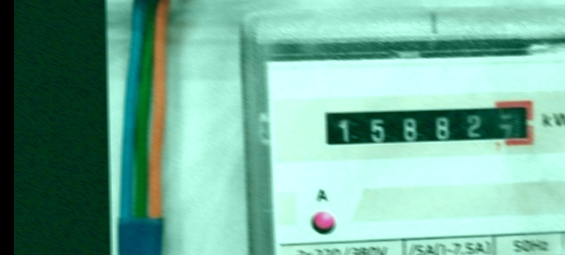1: (340, 114, 353, 143)
2: (467, 112, 484, 138)
5: (371, 115, 388, 145)
7: (500, 120, 513, 137)
8: (436, 112, 452, 141), (403, 114, 419, 142)
screen: (315, 90, 543, 156)
